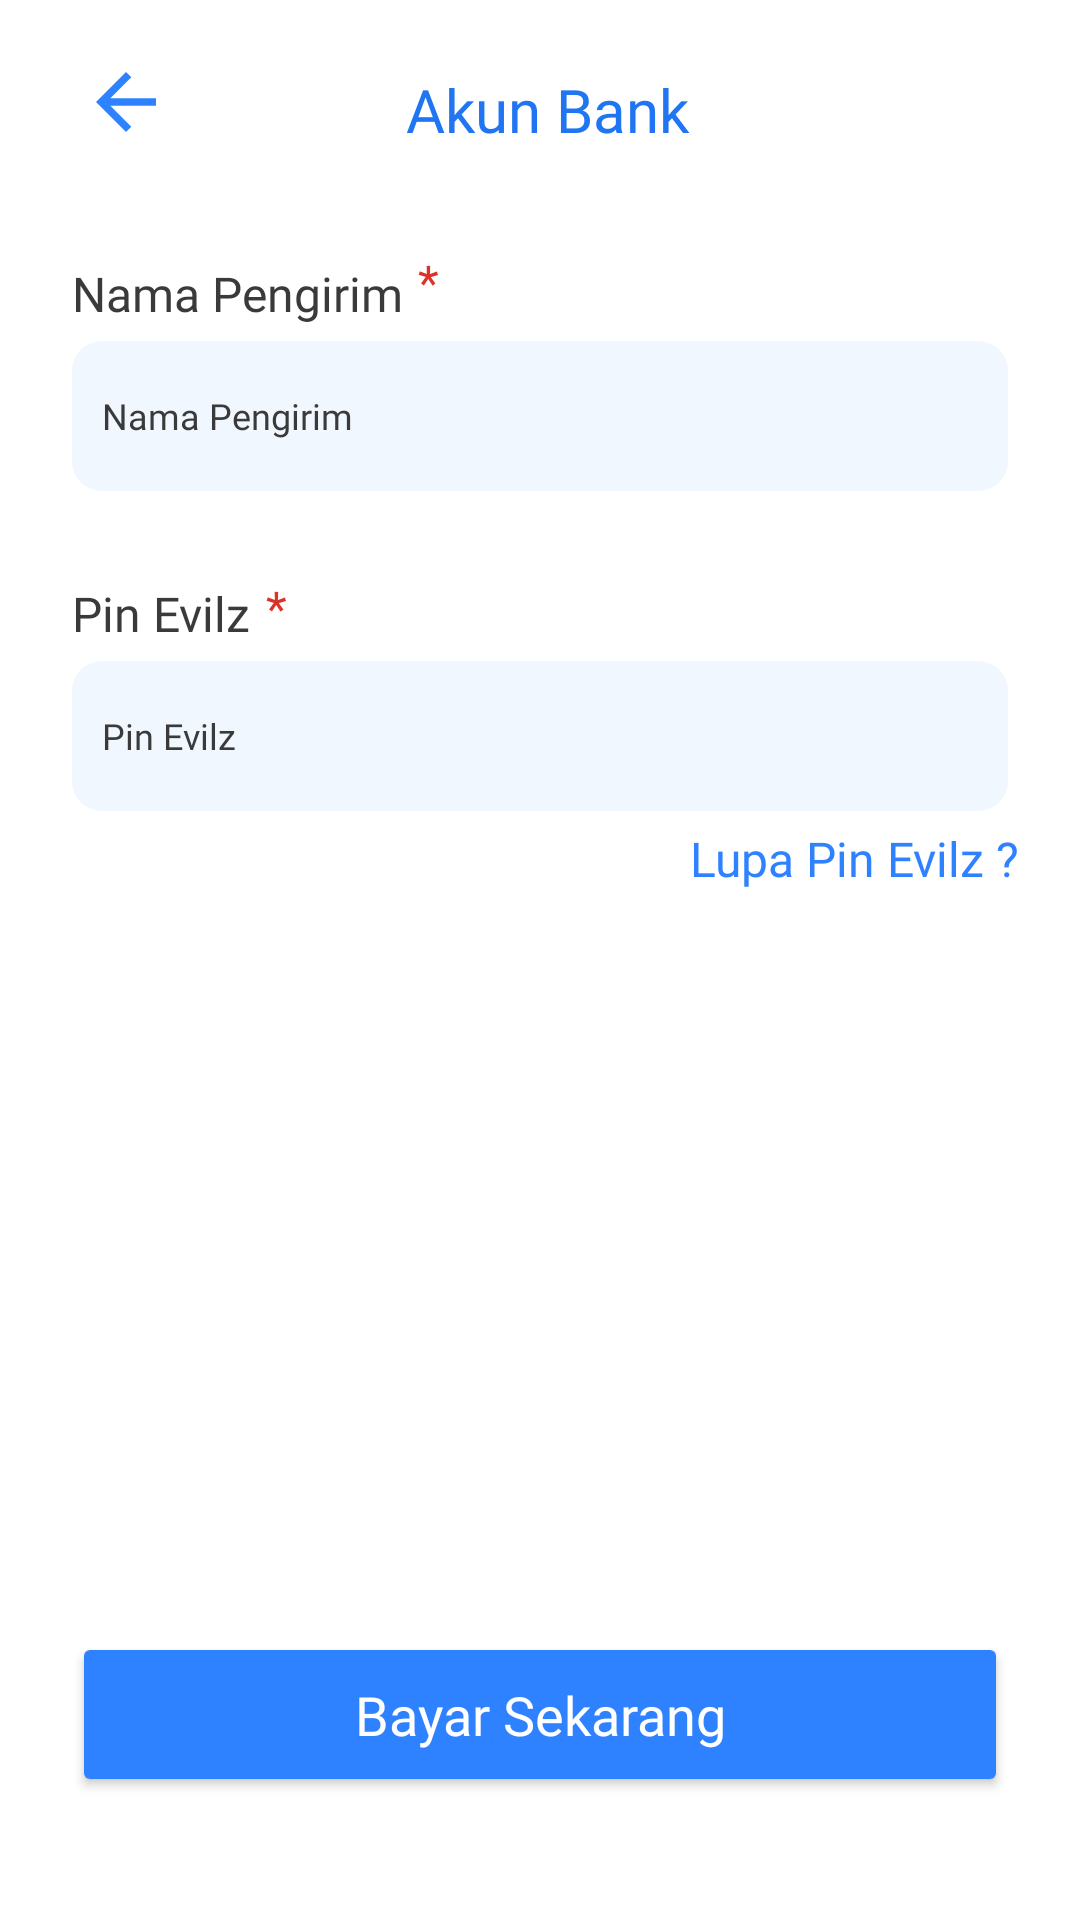

Where icons sit on this 1080w x 1920h app screen, as (x1, y1, x2, y2):
arrow back: (96, 72, 156, 132)
